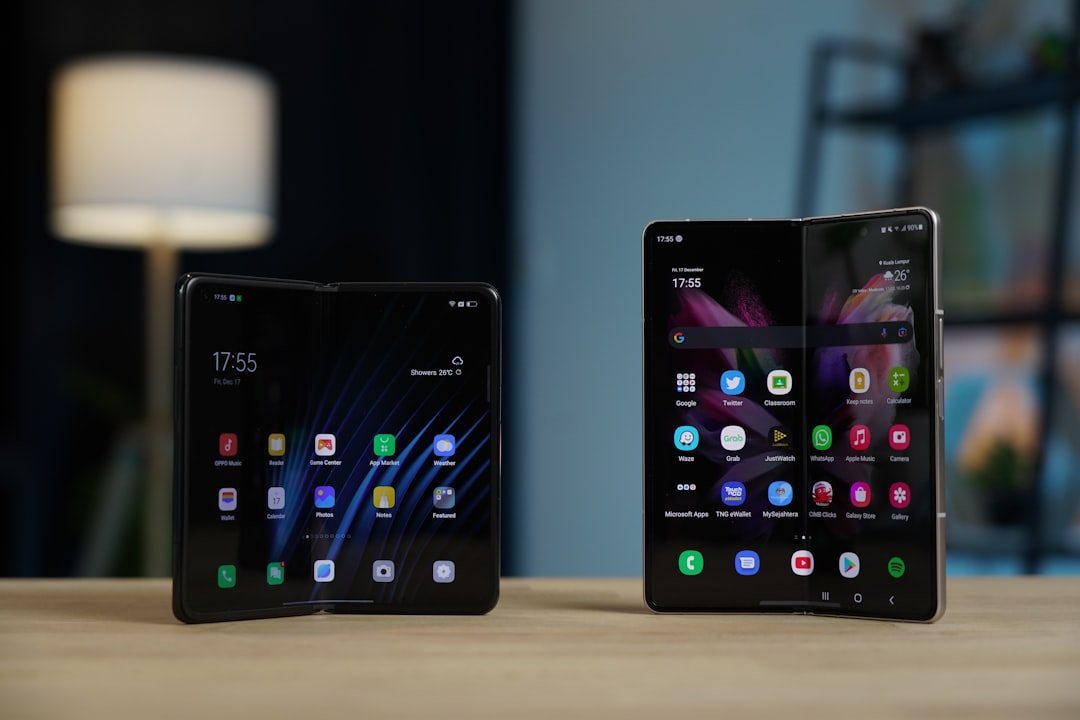phone: (642, 206, 951, 627), (171, 266, 504, 620)
